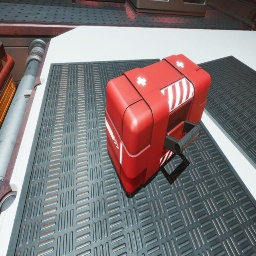FirstAidBox ,: (105, 54, 211, 194)
